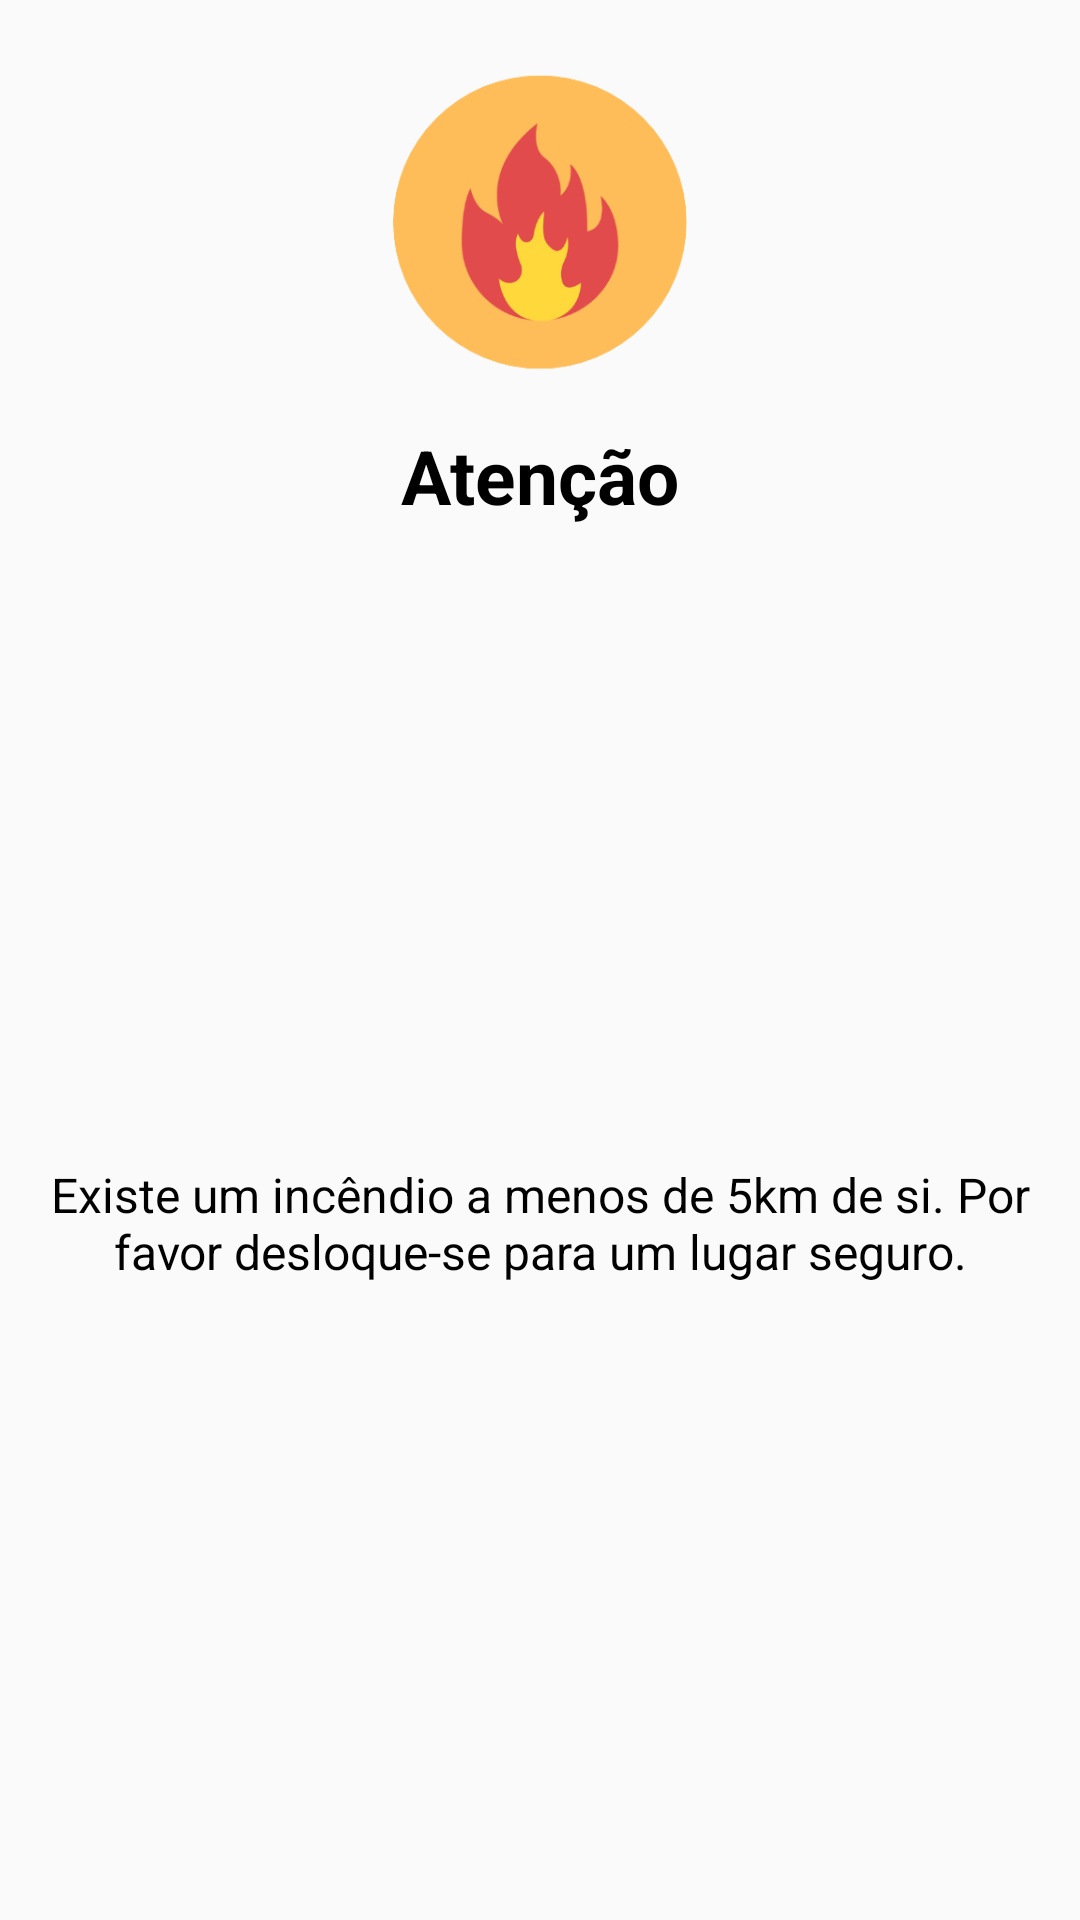

Screen size 1080 x 1920. Icon name, then its box in pixels as (x1, y1, x2, y2):
fireicon: (393, 75, 687, 369)
